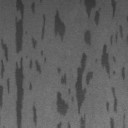red iron: (0, 0, 66, 128), (56, 52, 94, 128), (100, 24, 125, 80), (106, 88, 117, 128), (84, 0, 100, 26), (84, 30, 92, 46), (110, 0, 117, 18), (32, 105, 37, 126)
